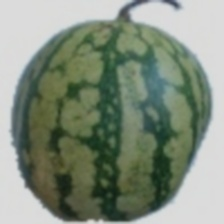watermelon: (30, 5, 187, 181)
